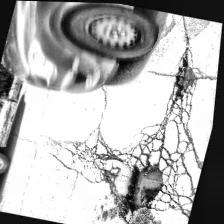pothole: (120, 157, 174, 219), (170, 54, 206, 100)
